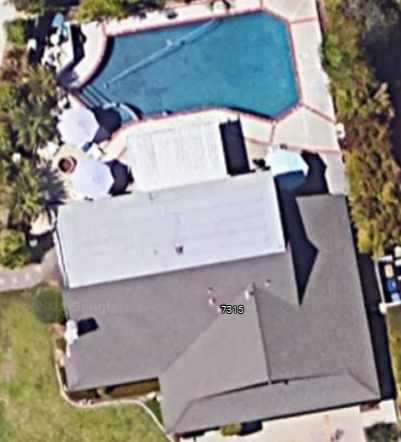poolww: (46, 4, 310, 134)
